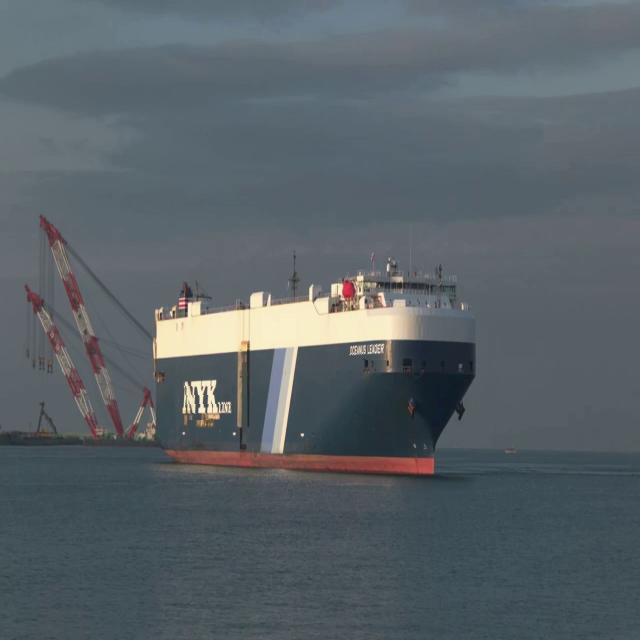OCR: (183, 372, 232, 420), (345, 340, 388, 360)
